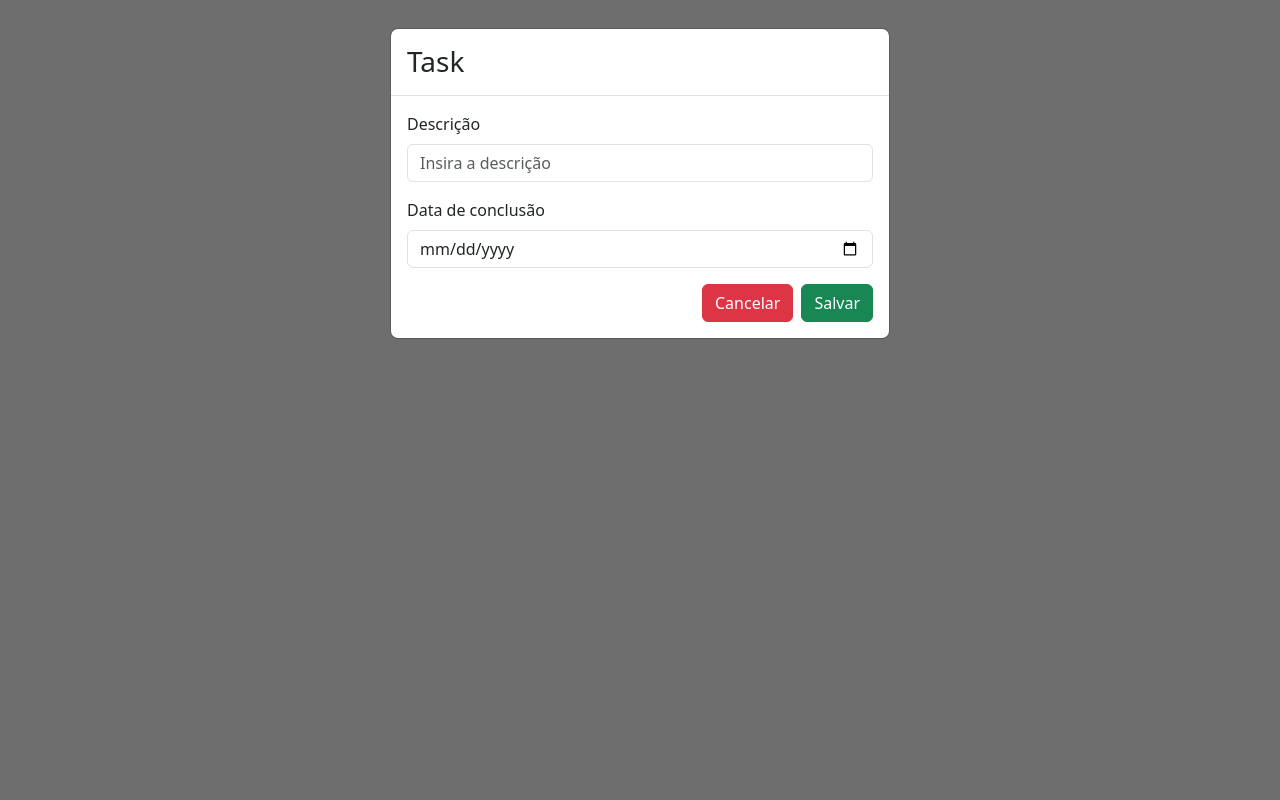
Test: TaskForm › Should validate date field is has future date
Type "test" into the field with placeholder "Insira a descrição" at coordinates (640, 163), box x1=407 y1=144 x2=873 y2=182
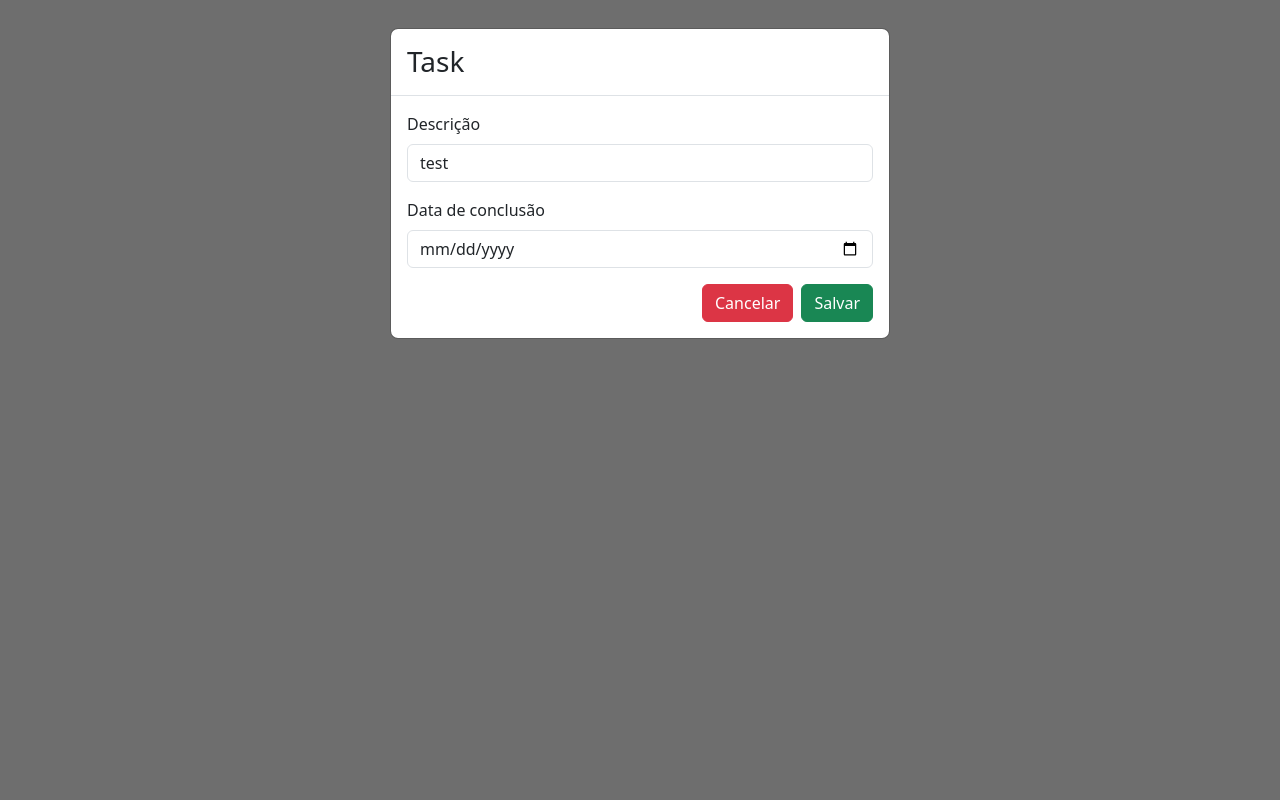
Type "2020-01-01" into the date field with placeholder "Insira a data" at coordinates (640, 249), box x1=407 y1=230 x2=873 y2=268
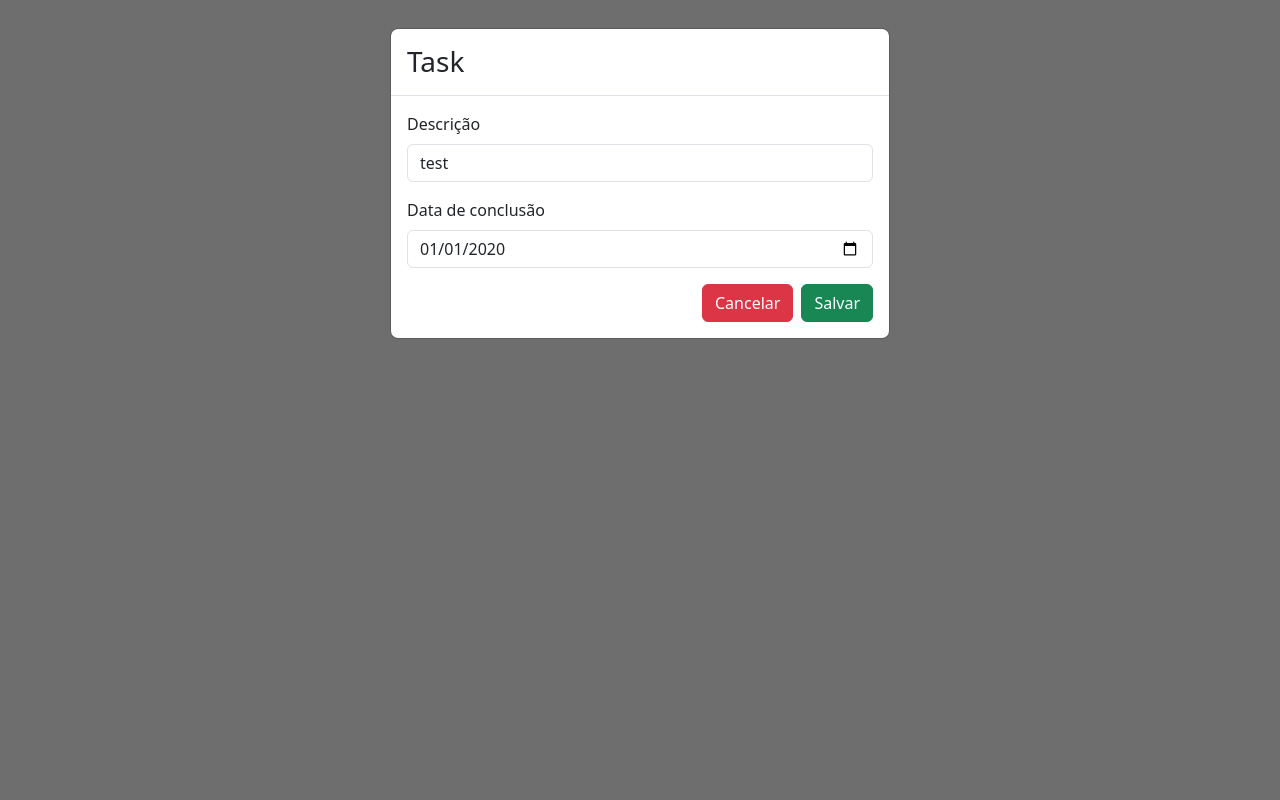
Click the button "Salvar" at coordinates (837, 303), box x1=801 y1=284 x2=873 y2=322
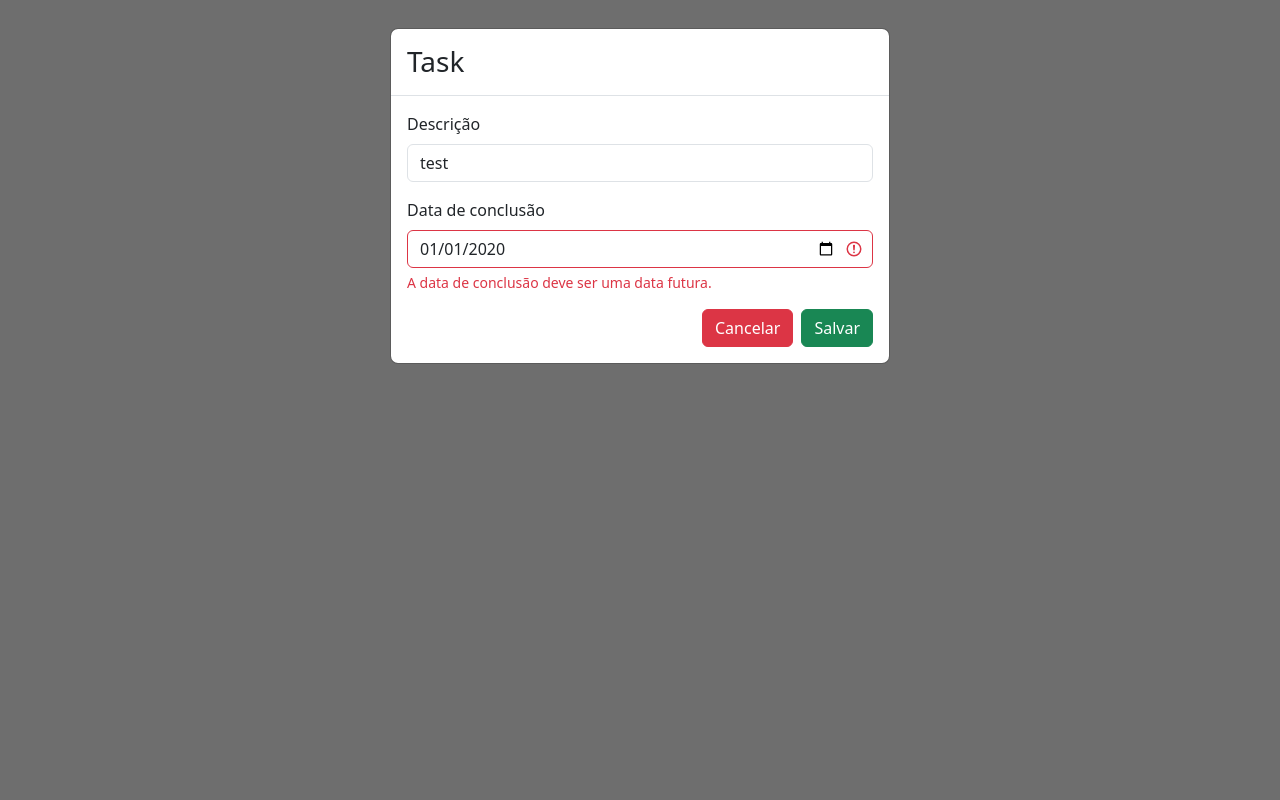
expect the text "A data de conclusão deve ser uma data futura." is shown: met, box x1=407 y1=273 x2=712 y2=292
